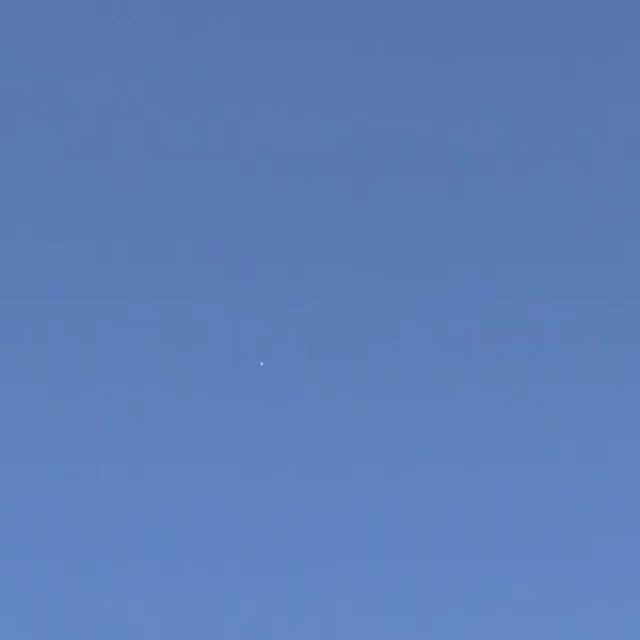AirPlane: (249, 347, 275, 381)
